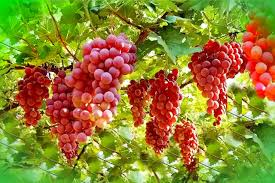Red Grapes: (78, 31, 135, 130), (189, 33, 246, 126), (45, 68, 83, 163), (237, 20, 275, 104), (147, 65, 181, 147), (15, 59, 48, 127), (123, 76, 151, 130), (176, 121, 201, 173)
